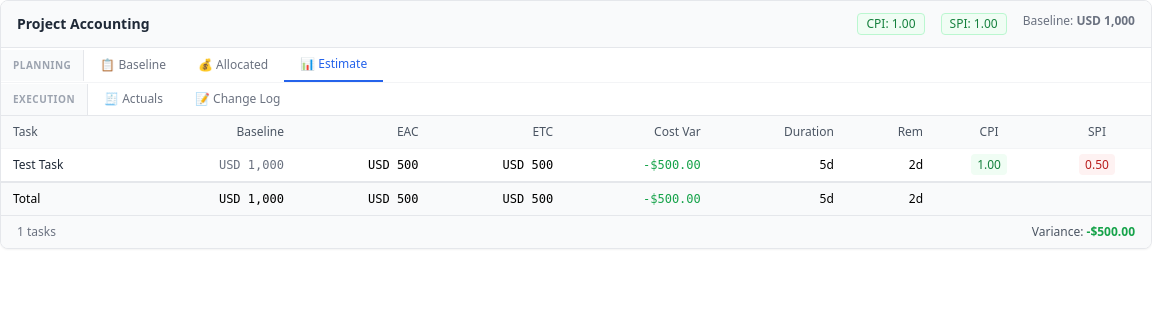
AccountingDashboard › displays empty state for change log when no entries
Click the button "📝 Change Log" at (238, 99), box [179, 83, 296, 115]
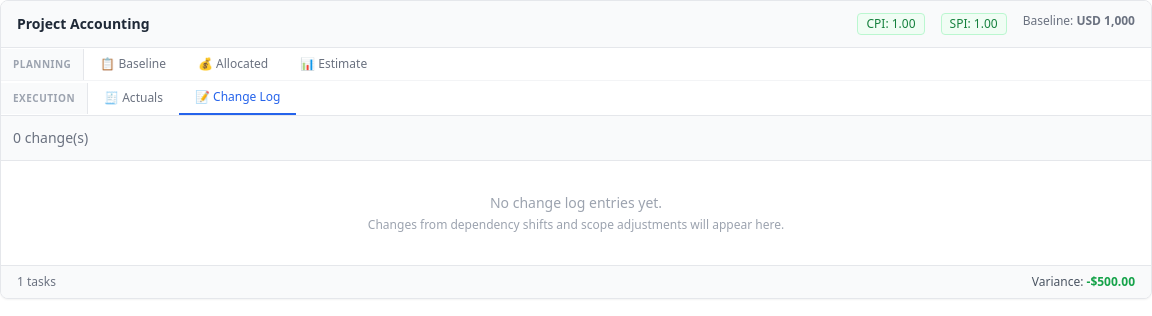
Check: the text "No change log entries yet." is shown, box [490, 193, 662, 212]
